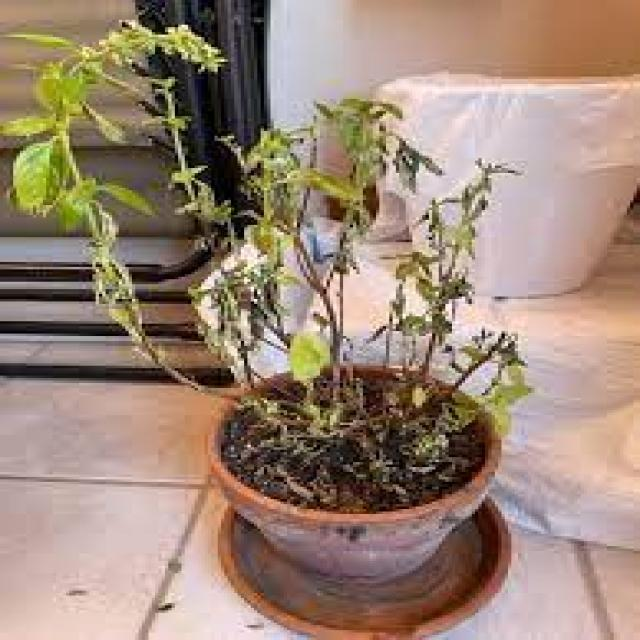unhealthy: (0, 14, 535, 479)
